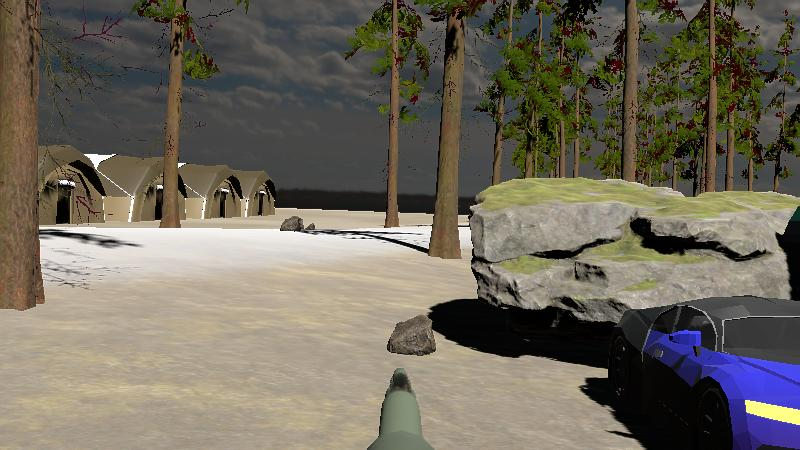car: (602, 293, 800, 447)
